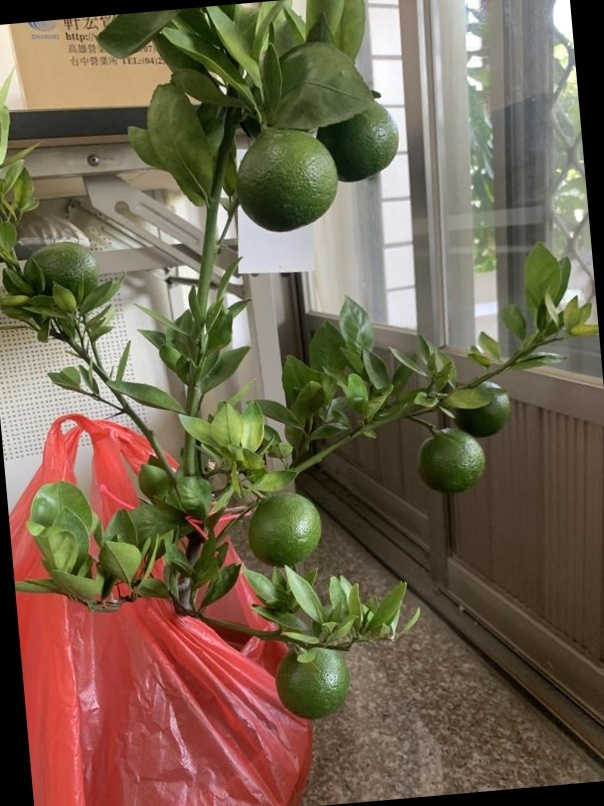Tangerine: (235, 129, 341, 234), (321, 93, 402, 184), (273, 637, 354, 718), (248, 493, 326, 566), (419, 421, 487, 497), (458, 380, 515, 442)
